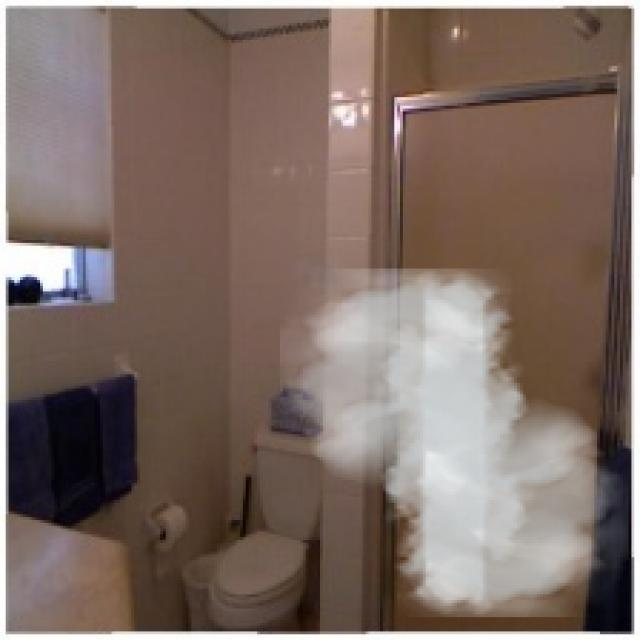Smoke: (280, 268, 629, 618)
